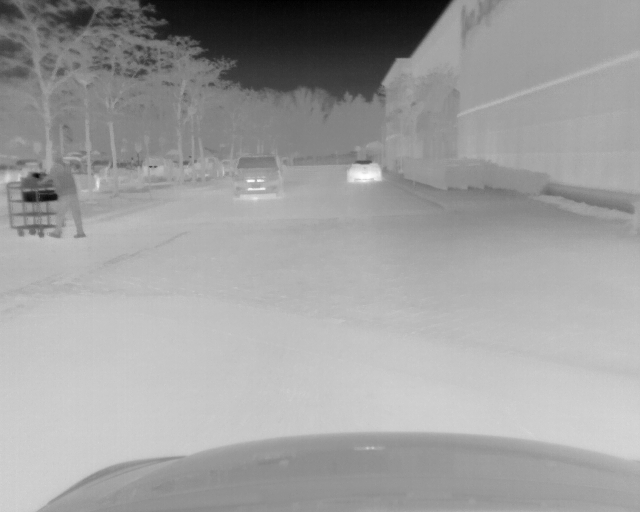car: (231, 151, 283, 200), (181, 152, 222, 178), (344, 158, 382, 184), (138, 154, 173, 181)
people: (38, 153, 87, 240)
